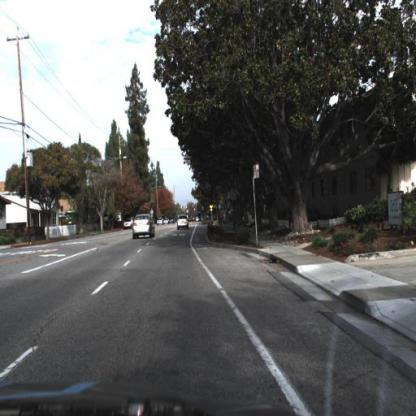car: (134, 214, 157, 241), (177, 216, 191, 233)
